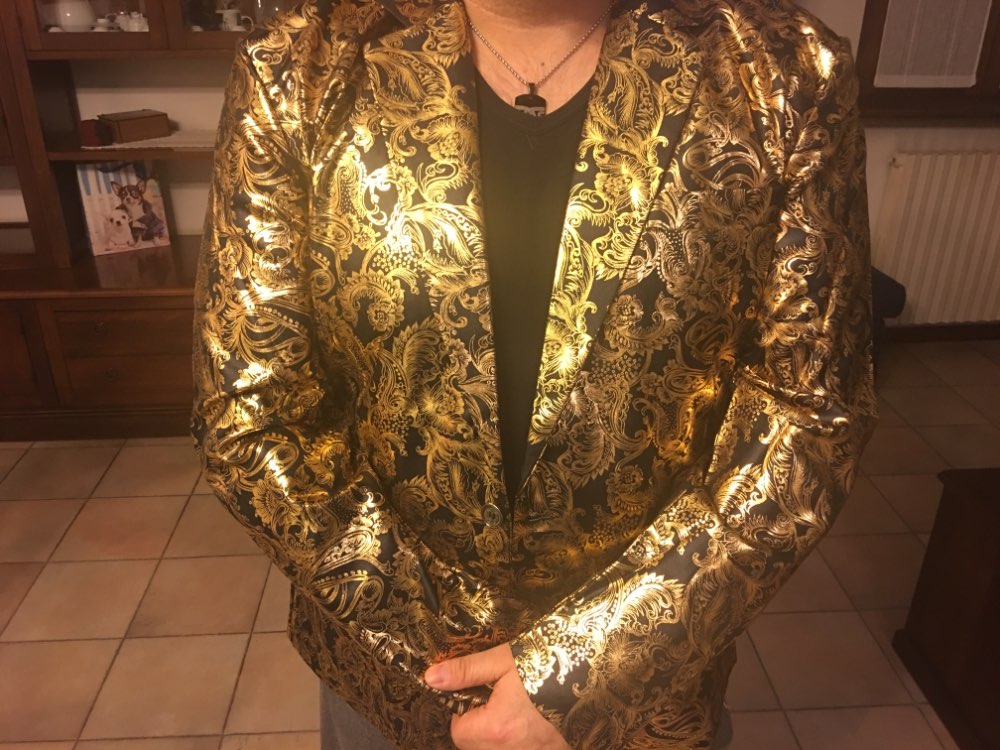shirts: (210, 23, 875, 734)
